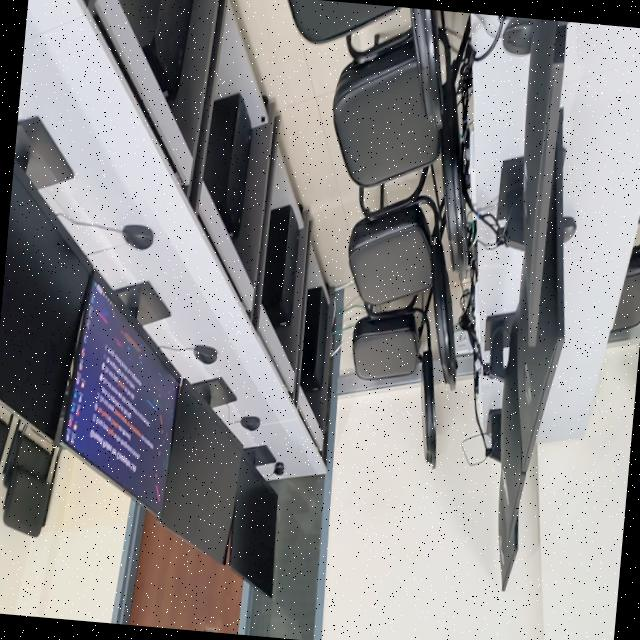Chair: (331, 7, 469, 277), (347, 164, 455, 387), (351, 292, 435, 466), (1, 420, 55, 536), (286, 0, 399, 44), (27, 486, 40, 497)
Cpu: (118, 0, 192, 94), (202, 92, 250, 234), (260, 205, 298, 327), (300, 285, 327, 391)
Monitor: (60, 271, 179, 510), (0, 167, 90, 440), (515, 108, 564, 471), (157, 379, 241, 562), (522, 17, 566, 346), (227, 448, 277, 595), (497, 317, 523, 544), (497, 466, 517, 590), (540, 92, 546, 108)
Mouse: (120, 224, 152, 249), (192, 344, 216, 363), (239, 415, 259, 430), (272, 461, 282, 474)
